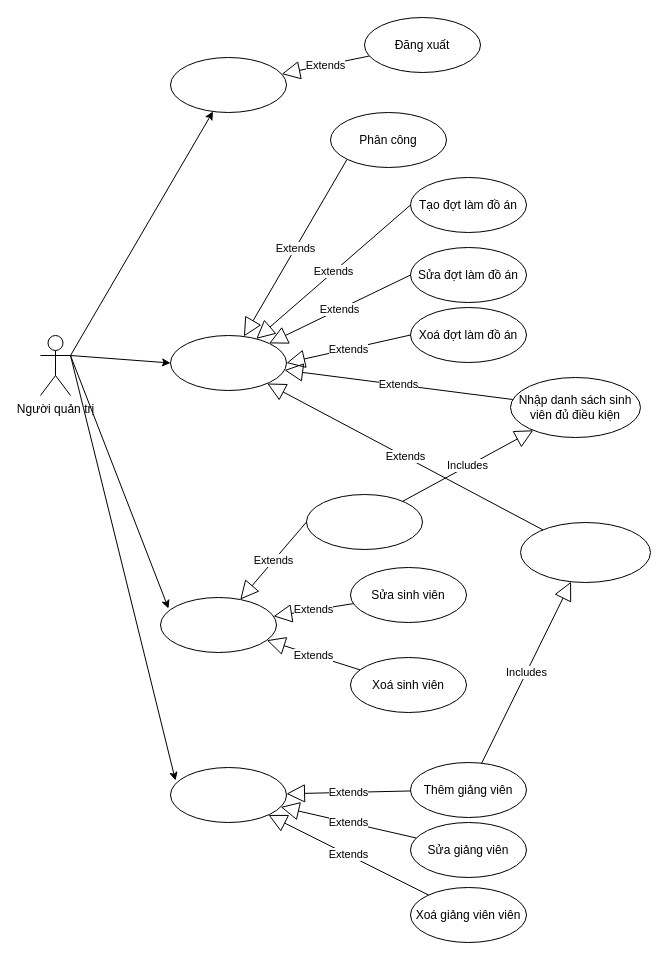
The diagram is 668 pixels wide and 960 high, and some of its shapes have lost their labels. Here are the shapes that lost their labels. From the top down, the centre of each, then its label:
At point 228,84: "Đăng nhập".
At point 228,362: "Quản lý đợt làm đồ án".
At point 364,522: "Thêm sinh viên".
At point 585,552: "Nhập danh sách giảng viên hướng dẫn".
At point 218,624: "Quản lý sinh viên".
At point 228,794: "Quản lý giảng viên".
